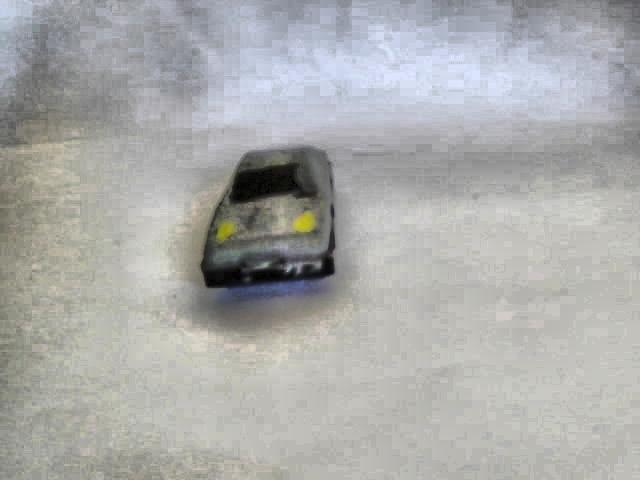normal_car: (197, 144, 343, 290)
